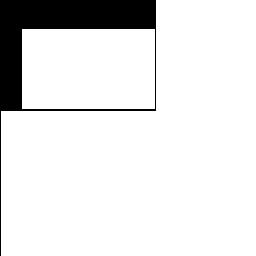rumex: (156, 0, 256, 256), (1, 111, 155, 256), (22, 29, 154, 108)
